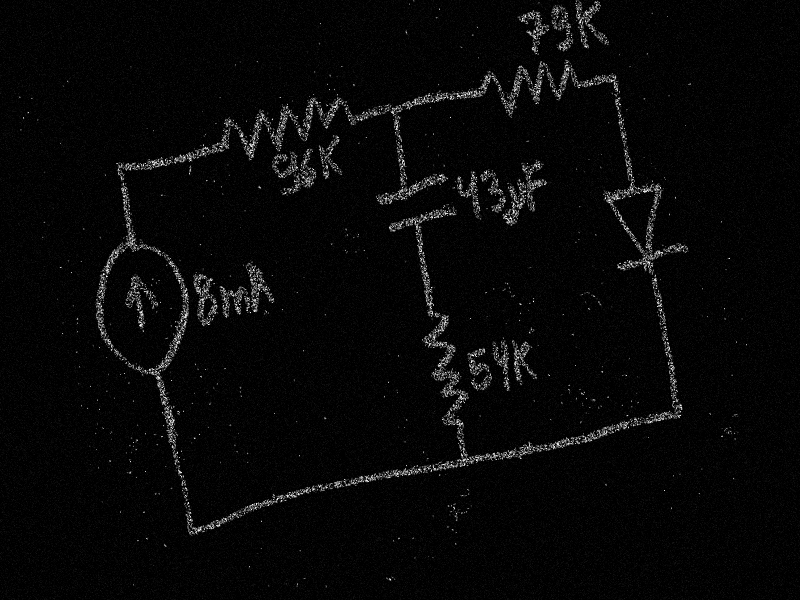3: (477, 165, 510, 218)
4: (452, 166, 487, 227), (489, 335, 517, 395)
5: (463, 344, 496, 395)
6: (295, 144, 321, 192)
7: (514, 4, 555, 59)
8: (187, 268, 223, 329)
9: (269, 148, 305, 201), (546, 2, 577, 55)
A: (242, 258, 276, 316)
F: (519, 157, 553, 212)
k: (570, 0, 612, 53), (508, 335, 539, 387), (315, 133, 347, 183)
m: (215, 279, 254, 323)
u: (503, 178, 531, 224)
